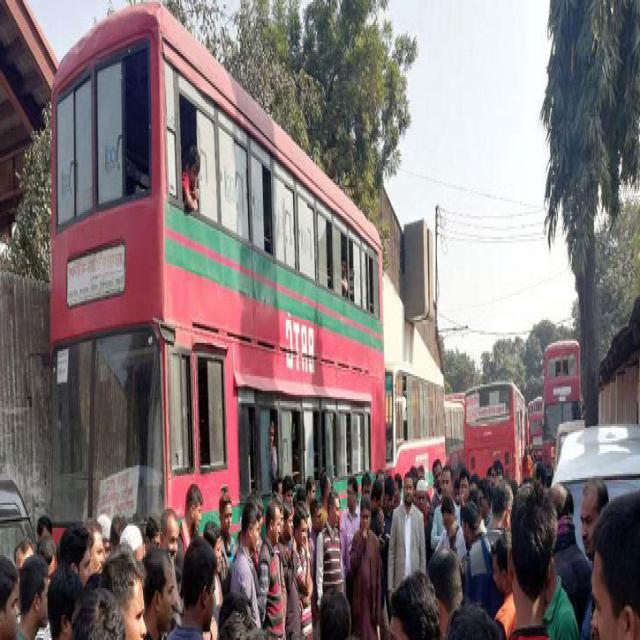Double decker: (42, 12, 386, 556), (540, 334, 584, 480)
